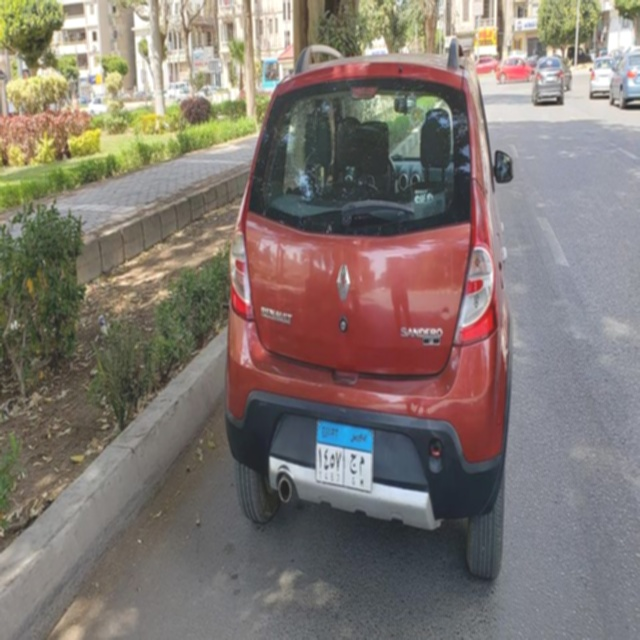License Plate: (313, 415, 375, 493)
